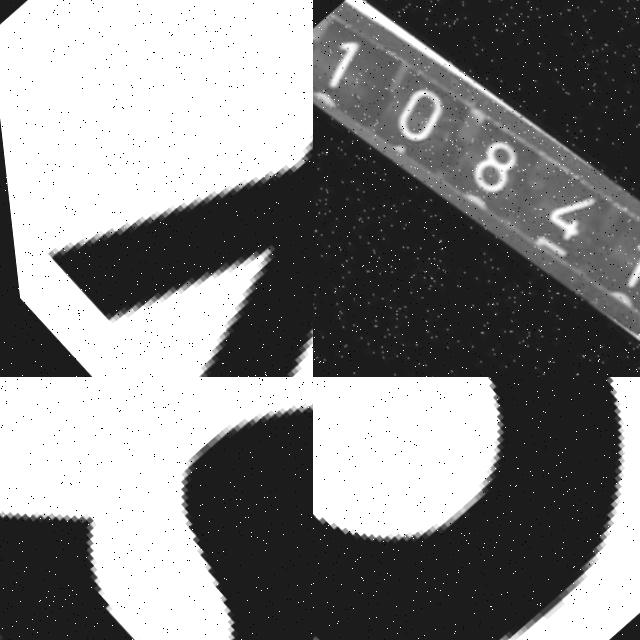0: (370, 72, 458, 152)
1: (313, 22, 380, 98), (591, 226, 640, 294)
4: (520, 168, 609, 248)
8: (446, 124, 533, 203)
O: (313, 377, 640, 640)
S: (0, 377, 313, 640)
X: (1, 0, 313, 377)
